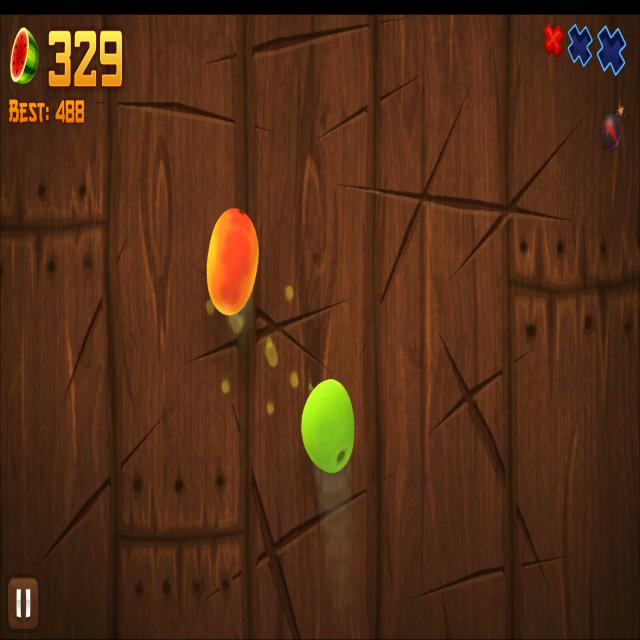fruit: (206, 208, 260, 316), (300, 379, 355, 473)
